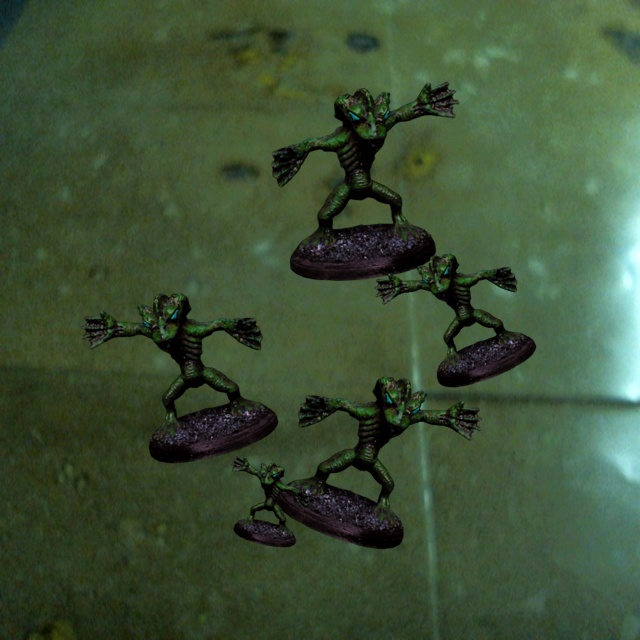pieza_juego: (271, 82, 459, 280), (275, 376, 481, 548), (81, 293, 278, 462), (374, 253, 535, 387), (231, 456, 308, 546)
